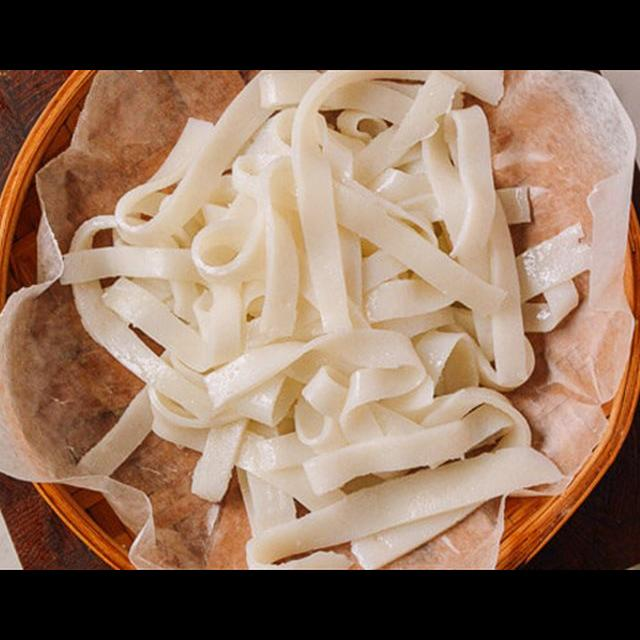noodles: (117, 120, 538, 507)
